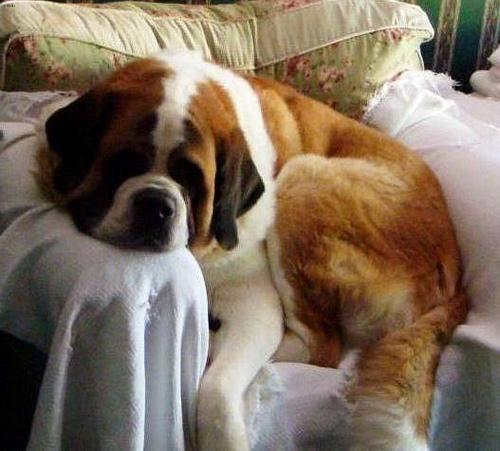dog-saint_bernard: (44, 77, 262, 251)
